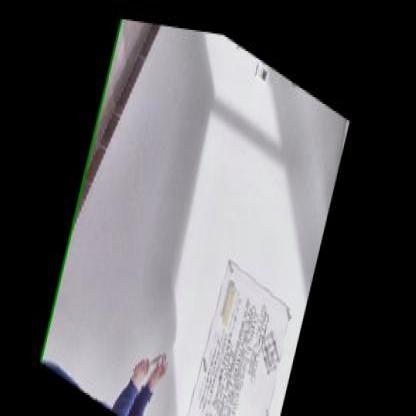knife: (135, 327, 170, 380)
